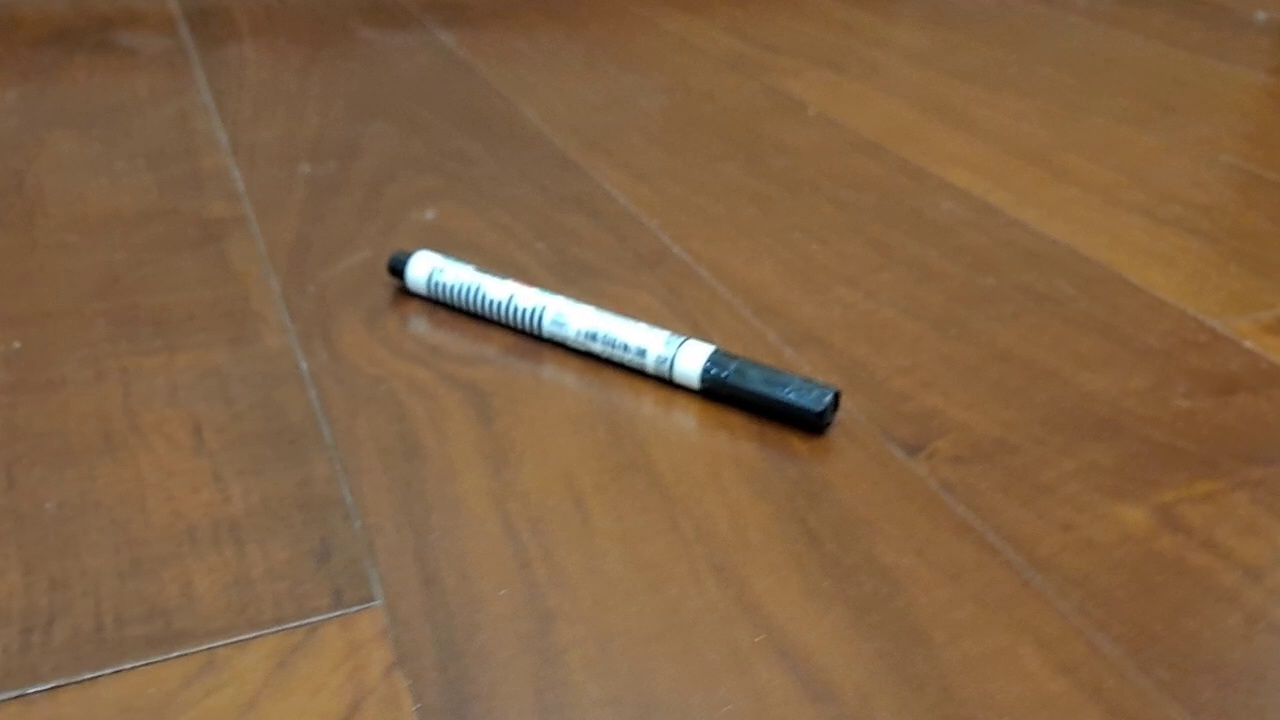pen: (386, 246, 842, 437)
